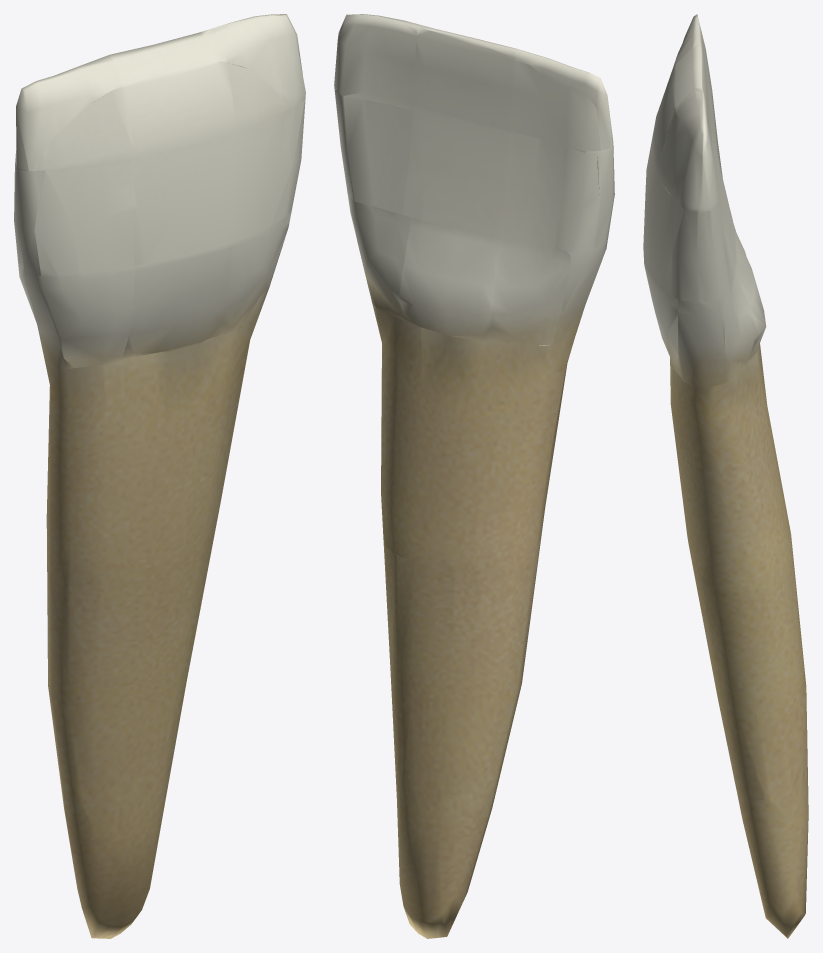
File: Left_Lower_Central_Incisor.glb
3 renders of one model, left to right at view 1: azimuth 30°, elevation 25°; view 2: azimuth 150°, elevation 25°; view 3: azimuth 270°, elevation 25°, orthographic. The views are drawn at different scales.
Parts seen in each view (by area): view 1: Human_Teeth_Lower_Central_Incisor; view 2: Human_Teeth_Lower_Central_Incisor; view 3: Human_Teeth_Lower_Central_Incisor.
Boxes of the visible parts, x1,y1,x2,y2 form: Human_Teeth_Lower_Central_Incisor: (14,14,305,938); Human_Teeth_Lower_Central_Incisor: (334,14,614,938); Human_Teeth_Lower_Central_Incisor: (643,14,808,938).
Size of the model in its own units: 1.08 by 3.28 by 0.5636.
30 materials, 30 textured.
